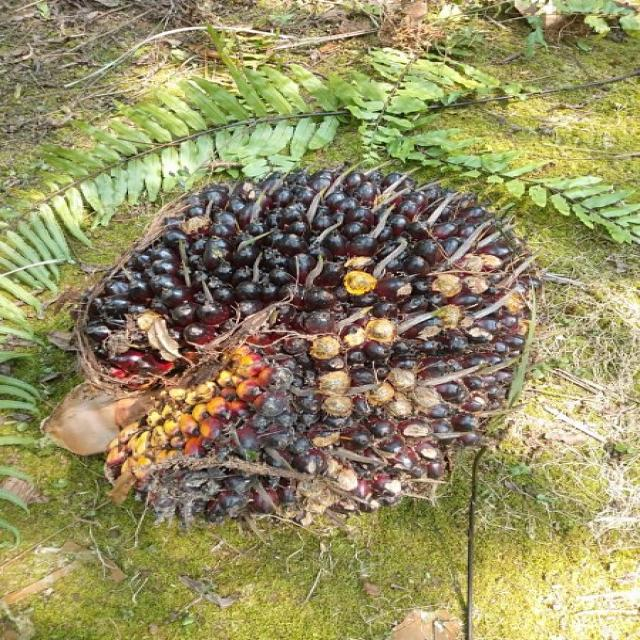fraksi 00: (72, 168, 528, 522)
